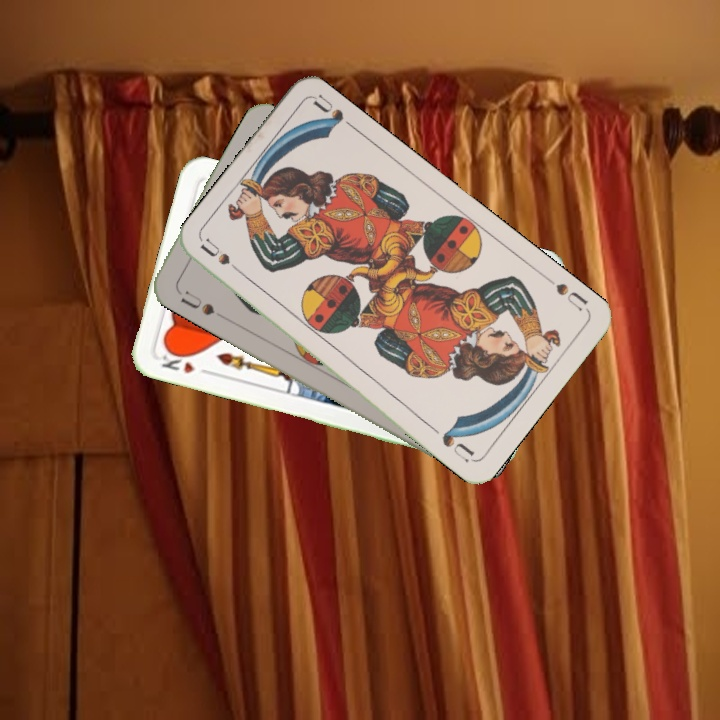HK: (157, 345, 213, 378)
SU: (196, 235, 249, 280), (172, 284, 218, 319), (551, 279, 591, 314)
